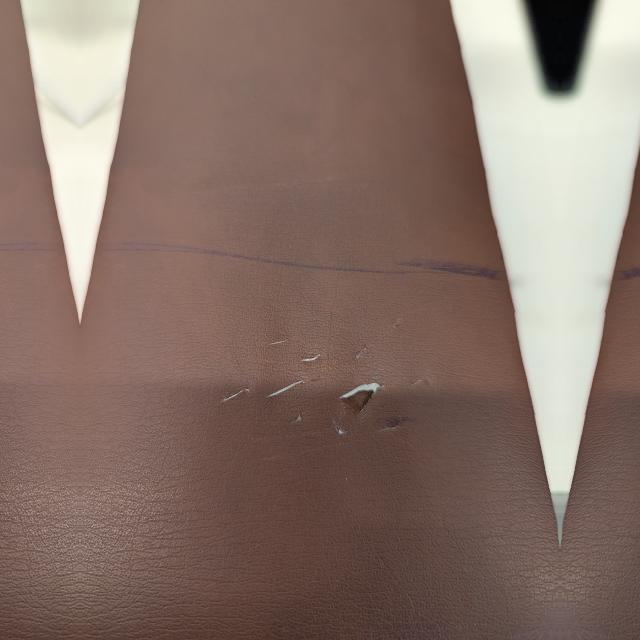belt_crack: (233, 303, 461, 453)
